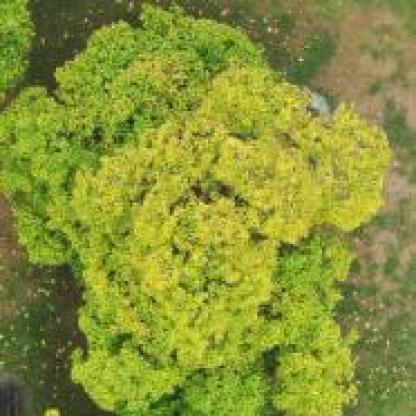Deciduous Tree: (0, 7, 398, 410)
